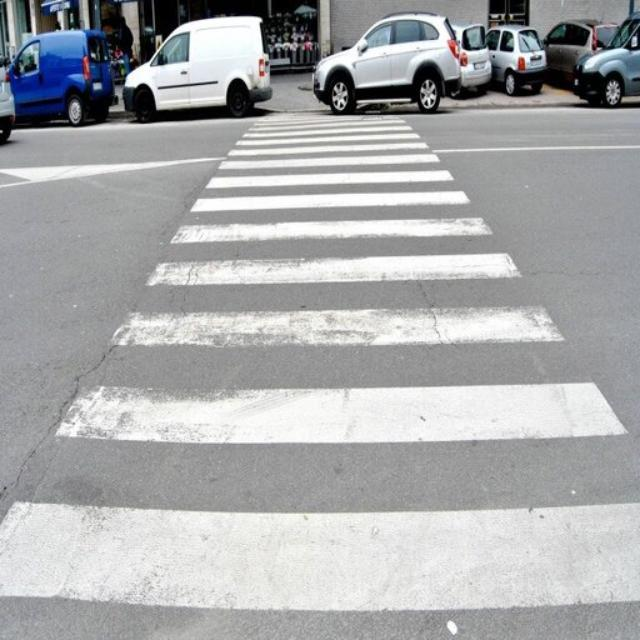sidewalk: (2, 112, 639, 614)
